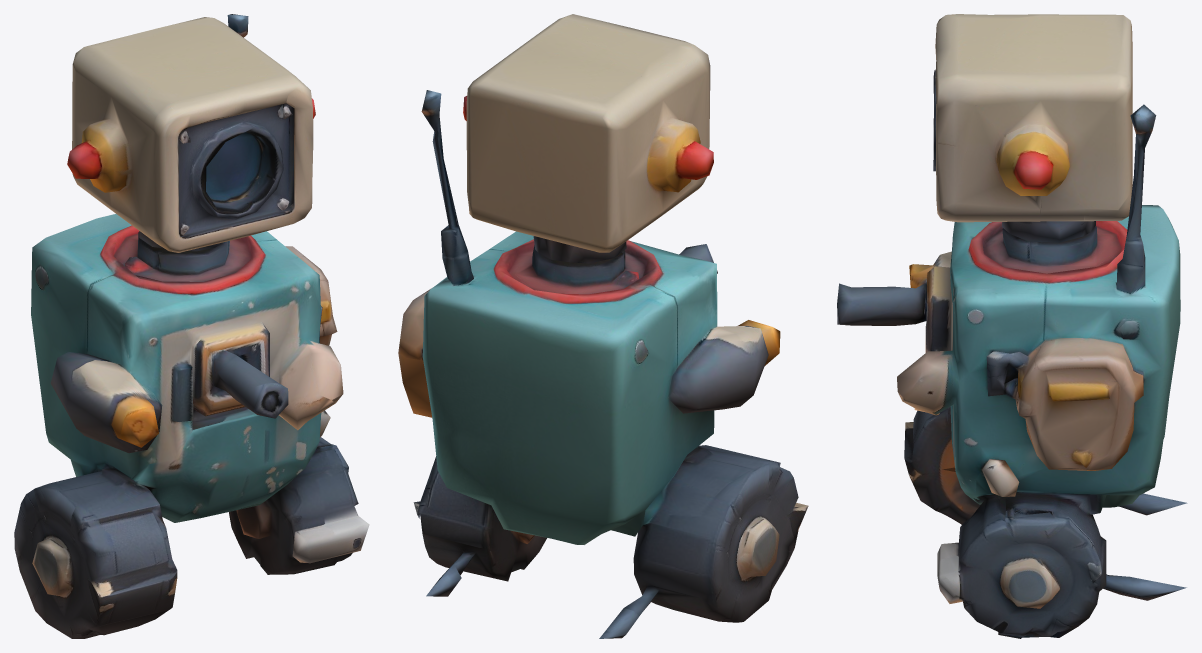
The model's file is utility_bot_o_mine_3000.glb.
3 views of the same model, side by side, from view 1: azimuth 30°, elevation 25°; view 2: azimuth 150°, elevation 25°; view 3: azimuth 270°, elevation 25° (orthographic).
Visible parts, largest first — view 1: tripo_node_7950482e-1d1f-4e0d-a6f2-48b1090897fa; view 2: tripo_node_7950482e-1d1f-4e0d-a6f2-48b1090897fa; view 3: tripo_node_7950482e-1d1f-4e0d-a6f2-48b1090897fa.
Boxes of the visible parts, x1=… form: tripo_node_7950482e-1d1f-4e0d-a6f2-48b1090897fa: x1=14, y1=14, x2=369, y2=638; tripo_node_7950482e-1d1f-4e0d-a6f2-48b1090897fa: x1=398, y1=14, x2=808, y2=638; tripo_node_7950482e-1d1f-4e0d-a6f2-48b1090897fa: x1=837, y1=14, x2=1187, y2=638.
Size of the model in its own units: 0.5931 by 0.9797 by 0.5826.
1 material, 1 textured.
